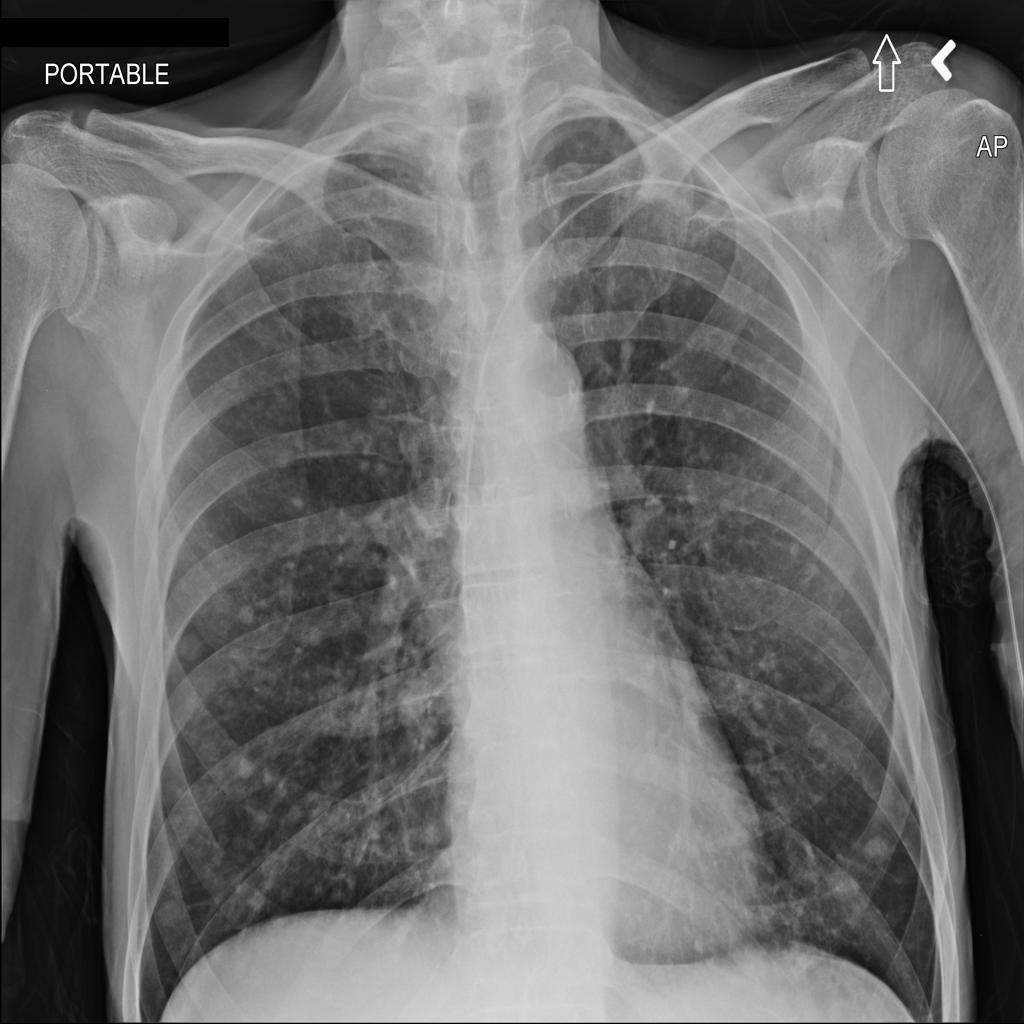nodule: (853, 819, 904, 869), (210, 583, 262, 631), (167, 621, 215, 672)
